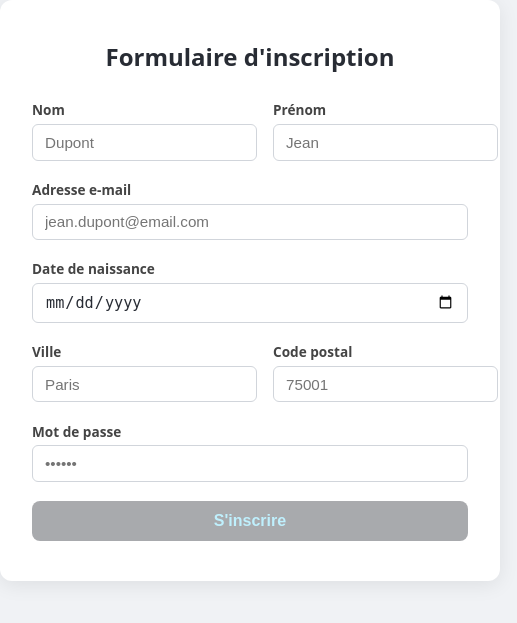
Test case: shows a red error when code postal is not 5 digits after blur
Type "1234" into the field labelled "Code postal" at [386, 384], box [273,366,498,402]
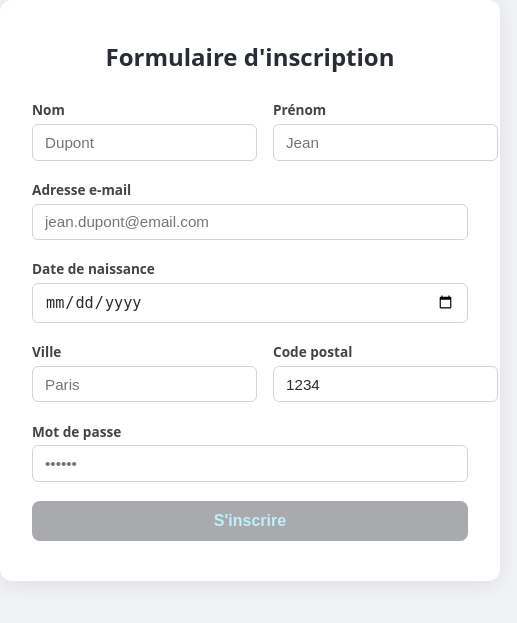
Leave the field labelled "Code postal", box [273,366,498,402]
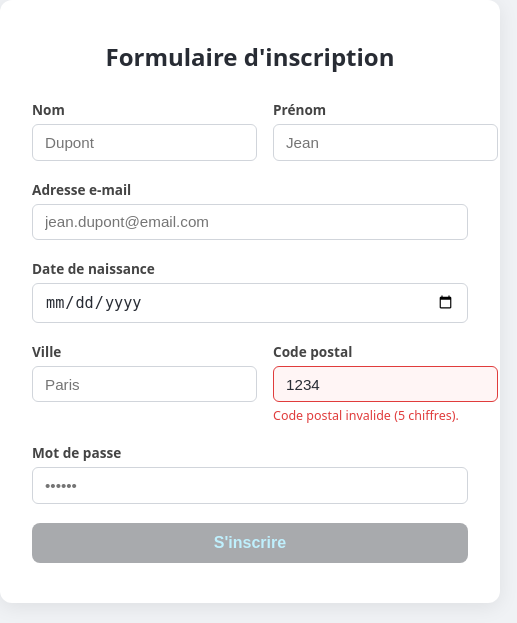
Expected: the text "Code postal invalide (5 chiffres)." is shown, [273,407,459,424]
